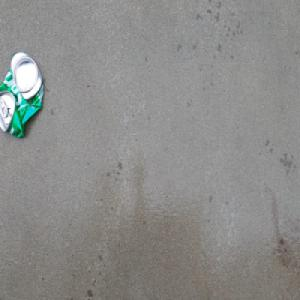SodaCan: (0, 49, 44, 140)
